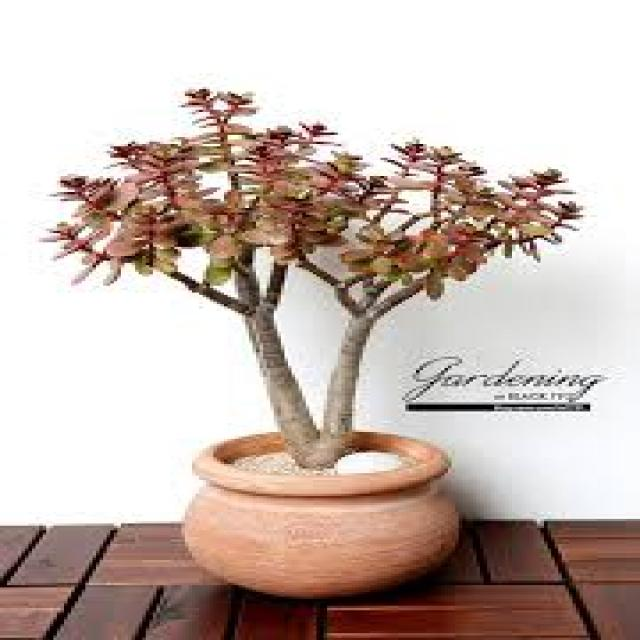Crassula: (82, 180, 206, 273), (354, 214, 502, 284), (383, 145, 513, 221), (286, 124, 383, 217), (47, 176, 130, 284), (482, 169, 581, 259), (109, 139, 216, 213), (179, 90, 264, 159), (375, 152, 432, 231), (226, 190, 292, 246), (391, 139, 420, 151)
